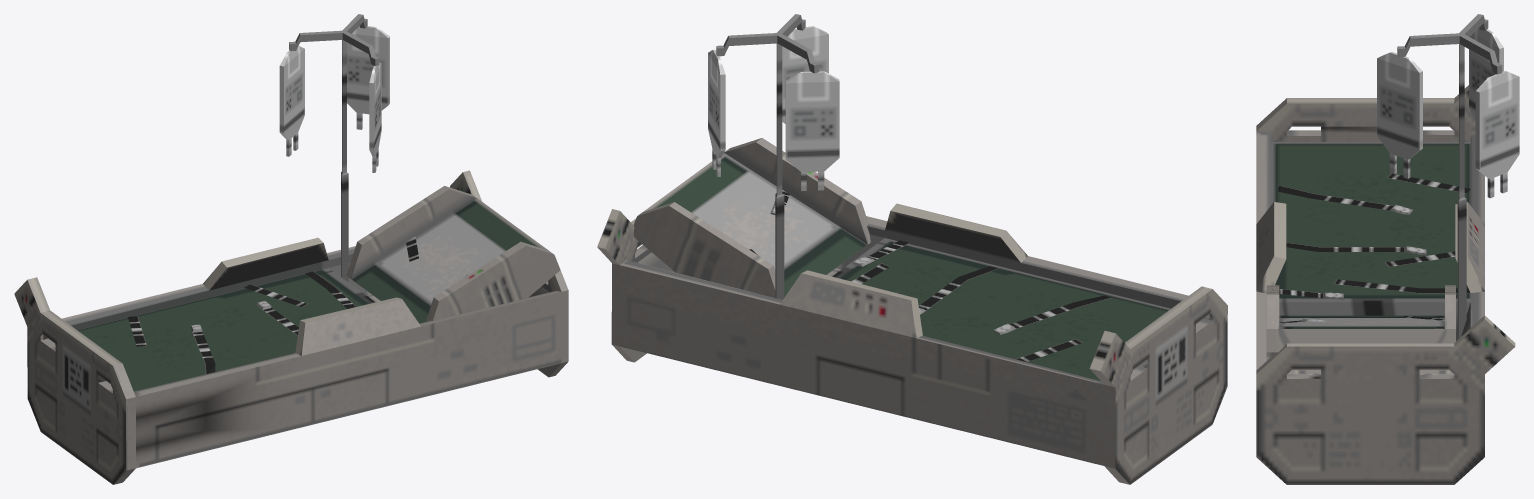
The model's file is BedVisual.fbx.
3 renders of one model, left to right at view 1: azimuth 30°, elevation 25°; view 2: azimuth 150°, elevation 25°; view 3: azimuth 270°, elevation 25°, orthographic. The views are drawn at different scales.
Visible parts, largest first — view 1: MED_Bett_Modular, IV_pack, IV_Stand, IV_pack__1_, IV_pack__2_; view 2: MED_Bett_Modular, IV_pack__1_, IV_Stand, IV_pack, IV_pack__2_; view 3: MED_Bett_Modular, IV_pack__2_, IV_pack, IV_Stand, IV_pack__1_.
Boxes of the visible parts, <box> form: MED_Bett_Modular: <box>14,170,568,484</box>; IV_pack: <box>347,26,389,129</box>; IV_Stand: <box>289,14,379,282</box>; IV_pack__1_: <box>279,46,304,156</box>; IV_pack__2_: <box>369,62,381,172</box>; MED_Bett_Modular: <box>597,138,1227,484</box>; IV_pack__1_: <box>785,71,839,190</box>; IV_Stand: <box>716,14,819,299</box>; IV_pack: <box>708,49,725,176</box>; IV_pack__2_: <box>782,26,828,123</box>; MED_Bett_Modular: <box>1256,85,1515,484</box>; IV_pack__2_: <box>1377,51,1422,178</box>; IV_pack: <box>1475,70,1519,198</box>; IV_Stand: <box>1397,14,1502,339</box>; IV_pack__1_: <box>1469,28,1503,120</box>.
Bounding box in the file's own units: 153 × 107 × 68.02.
2 materials, 2 textured.
